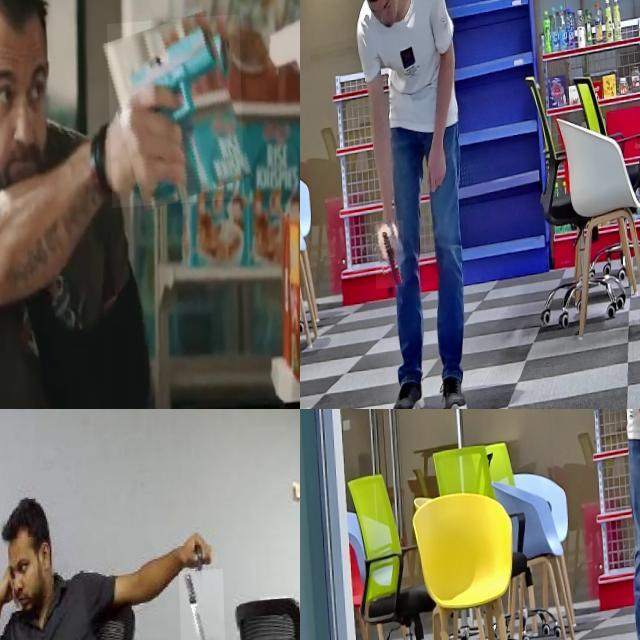-: (176, 574, 222, 640)
gun-knife-thesis - v11 Yolov5 augmented: (106, 21, 242, 212), (372, 226, 402, 294)
